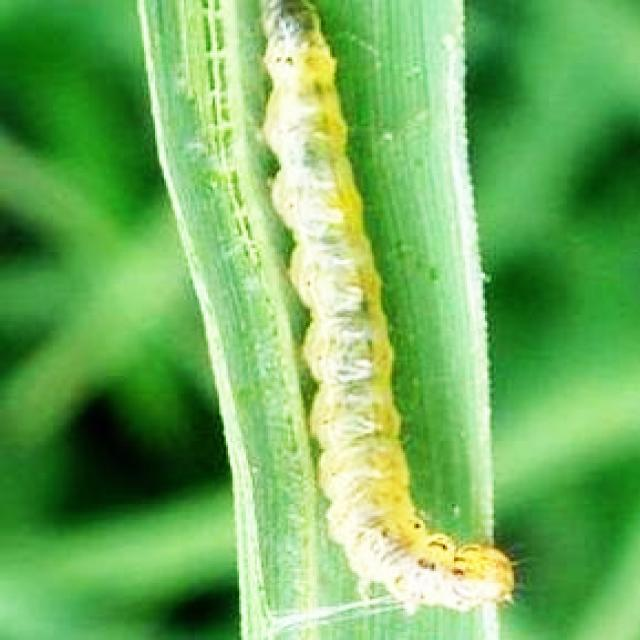leaf-folder: (190, 6, 539, 618)
